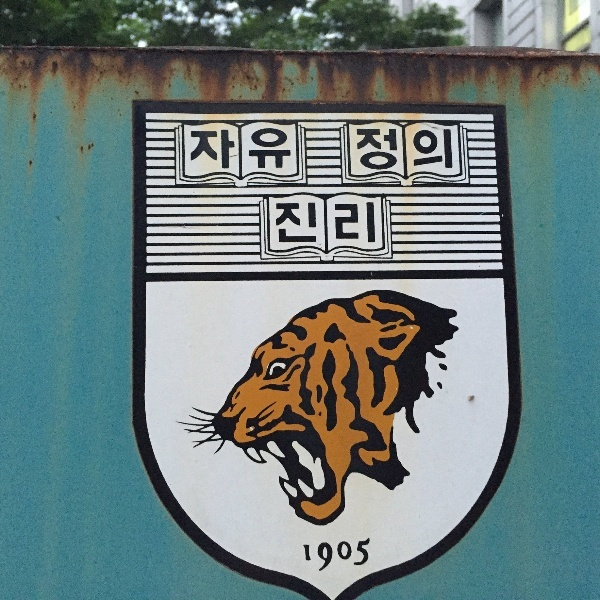text: (369, 123, 384, 177), (385, 123, 400, 177), (401, 123, 416, 177), (417, 123, 432, 177), (433, 123, 448, 177), (273, 200, 288, 249), (289, 200, 304, 249), (305, 200, 320, 249), (321, 200, 336, 249), (337, 200, 352, 249), (353, 200, 368, 249), (355, 123, 368, 177), (193, 127, 208, 173), (209, 127, 224, 173), (225, 127, 240, 173), (241, 127, 256, 173), (257, 127, 272, 173), (273, 127, 288, 173), (305, 537, 320, 579), (321, 537, 336, 579), (337, 537, 352, 579), (353, 537, 368, 579), (369, 200, 379, 249), (449, 123, 456, 177), (289, 127, 294, 173), (369, 537, 374, 579), (302, 537, 304, 579), (191, 127, 192, 173)
